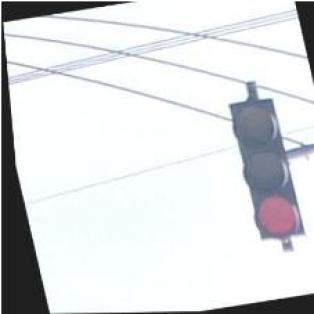Semaforo Rojo: (223, 96, 303, 242)
